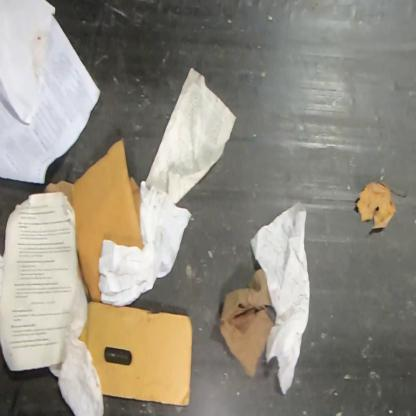cardboard: (42, 137, 145, 302), (76, 302, 193, 406)
